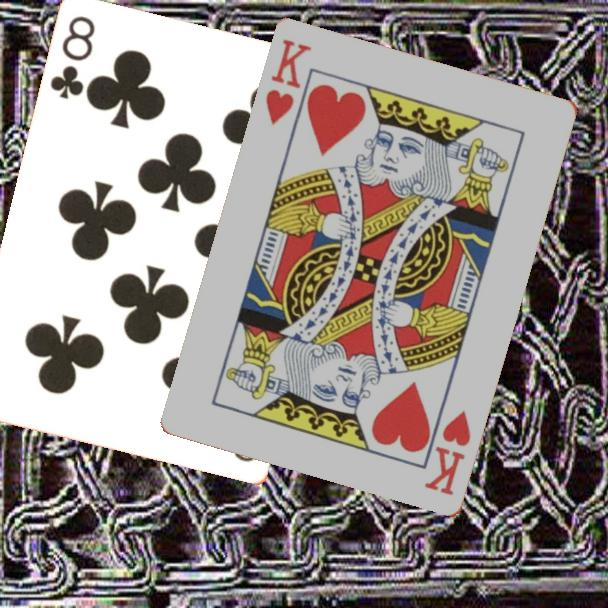c08: (47, 13, 99, 103)
h13: (421, 407, 474, 500), (262, 36, 315, 129)
